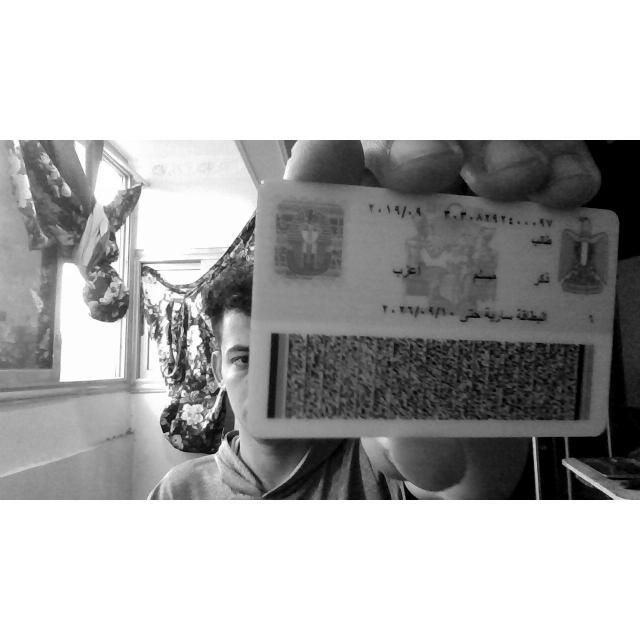back: (248, 179, 618, 437)
